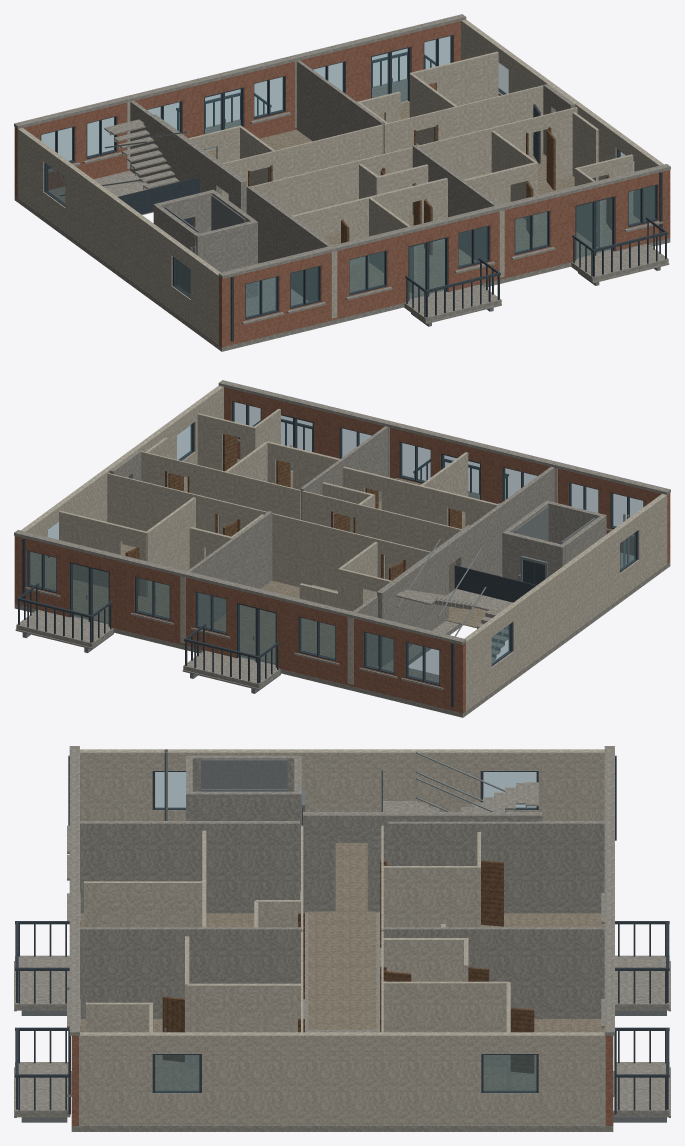
File: PZ_Midrise_TypicalStorey_Repeatable.glb
3 renders of one model, top to bottom at view 1: azimuth 30°, elevation 25°; view 2: azimuth 150°, elevation 25°; view 3: azimuth 270°, elevation 25°, orthographic. The views are drawn at different scales.
Visible parts, largest first — view 1: Story_Repeatable_BackRedBrick_TrueWindowAndDoorApertures, Story_Repeatable_WestConcreteEndWall, Story_Repeatable_FrontRedBrick_TrueWindowAndDoorApertures, Story_Repeatable_AcousticPartyWalls, Story_Repeatable_EastConcreteEndWall, Story_Repeatable_Flex_D_CorridorEntryWall_TRUE_0p90m_OPENING, Story_Repeatable_OneBed_B_CorridorEntryWall_TRUE_0p90m_OPENI, Story_Repeatable_TwoBed_C_CorridorEntryWall_TRUE_0p90m_OPENI, Story_Repeatable_StructuralFloorSlab_20x16_WITH_CORE_VOIDS, Story_Repeatable_Studio_A_CorridorEntryWall_TRUE_0p90m_OPENI, Story_Repeatable_TwoBed_C_TwoBedroomsMainDivider, Story_Repeatable_BackHorizontalConcreteBand (+49 smaller); view 2: Story_Repeatable_FrontRedBrick_TrueWindowAndDoorApertures, Story_Repeatable_WestConcreteEndWall, Story_Repeatable_AcousticPartyWalls, Story_Repeatable_BackRedBrick_TrueWindowAndDoorApertures, Story_Repeatable_Studio_A_CorridorEntryWall_TRUE_0p90m_OPENI, Story_Repeatable_EastConcreteEndWall, Story_Repeatable_OneBed_B_CorridorEntryWall_TRUE_0p90m_OPENI, Story_Repeatable_Flex_D_CorridorEntryWall_TRUE_0p90m_OPENING, Story_Repeatable_TwoBed_C_CorridorEntryWall_TRUE_0p90m_OPENI, Story_Repeatable_TwoBed_C_TwoBedroomsMainDivider, Story_Repeatable_ElevatorAndUStair_FireRatedCorePartition, Story_Repeatable_StructuralFloorSlab_20x16_WITH_CORE_VOIDS (+44 smaller); view 3: Story_Repeatable_AcousticPartyWalls, Story_Repeatable_EastConcreteEndWall, Story_Repeatable_WestConcreteEndWall, Story_Repeatable_CorridorTileSurface, Story_Repeatable_OneBed_B_BedroomDivider_NS, Story_Repeatable_Studio_A_BathroomDivider_NS, Story_Repeatable_ElevatorAndUStair_CoreToHallFireDoorApertur, Story_Repeatable_Flex_D_BedroomSide, Story_Repeatable_TwoBed_C_BedroomSeparation, Story_Repeatable_StructuralFloorSlab_20x16_WITH_CORE_VOIDS, Story_Repeatable_OneBed_B_BathDivider_NS, Story_Repeatable_FrontHorizontalConcreteBand (+32 smaller).
Boxes of the visible parts, bbox=[...] form: Story_Repeatable_BackRedBrick_TrueWindowAndDoorApertures: bbox=[219, 170, 670, 347]; Story_Repeatable_WestConcreteEndWall: bbox=[17, 128, 220, 344]; Story_Repeatable_FrontRedBrick_TrueWindowAndDoorApertures: bbox=[14, 21, 460, 197]; Story_Repeatable_AcousticPartyWalls: bbox=[130, 60, 497, 301]; Story_Repeatable_EastConcreteEndWall: bbox=[461, 19, 663, 220]; Story_Repeatable_Flex_D_CorridorEntryWall_TRUE_0p90m_OPENING: bbox=[417, 107, 577, 179]; Story_Repeatable_OneBed_B_CorridorEntryWall_TRUE_0p90m_OPENI: bbox=[384, 85, 543, 156]; Story_Repeatable_TwoBed_C_CorridorEntryWall_TRUE_0p90m_OPENI: bbox=[251, 147, 412, 235]; Story_Repeatable_StructuralFloorSlab_20x16_WITH_CORE_VOIDS: bbox=[14, 100, 670, 351]; Story_Repeatable_Studio_A_CorridorEntryWall_TRUE_0p90m_OPENI: bbox=[222, 124, 382, 199]; Story_Repeatable_TwoBed_C_TwoBedroomsMainDivider: bbox=[291, 178, 447, 266]; Story_Repeatable_BackHorizontalConcreteBand: bbox=[218, 164, 670, 278]; Story_Repeatable_FrontRedBrick_TrueWindowAndDoorApertures: bbox=[14, 536, 465, 713]; Story_Repeatable_WestConcreteEndWall: bbox=[464, 494, 667, 710]; Story_Repeatable_AcousticPartyWalls: bbox=[187, 426, 554, 666]; Story_Repeatable_BackRedBrick_TrueWindowAndDoorApertures: bbox=[224, 387, 670, 563]; Story_Repeatable_Studio_A_CorridorEntryWall_TRUE_0p90m_OPENI: bbox=[272, 513, 430, 590]; Story_Repeatable_EastConcreteEndWall: bbox=[21, 385, 223, 585]; Story_Repeatable_OneBed_B_CorridorEntryWall_TRUE_0p90m_OPENI: bbox=[107, 473, 267, 556]; Story_Repeatable_Flex_D_CorridorEntryWall_TRUE_0p90m_OPENING: bbox=[139, 450, 300, 534]; Story_Repeatable_TwoBed_C_CorridorEntryWall_TRUE_0p90m_OPENI: bbox=[302, 490, 461, 593]; Story_Repeatable_TwoBed_C_TwoBedroomsMainDivider: bbox=[342, 466, 498, 532]; Story_Repeatable_ElevatorAndUStair_FireRatedCorePartition: bbox=[377, 549, 441, 666]; Story_Repeatable_StructuralFloorSlab_20x16_WITH_CORE_VOIDS: bbox=[14, 469, 670, 717]; Story_Repeatable_AcousticPartyWalls: bbox=[80, 821, 604, 1018]; Story_Repeatable_EastConcreteEndWall: bbox=[79, 1032, 605, 1125]; Story_Repeatable_WestConcreteEndWall: bbox=[80, 749, 604, 825]; Story_Repeatable_CorridorTileSurface: bbox=[308, 911, 376, 1029]; Story_Repeatable_OneBed_B_BedroomDivider_NS: bbox=[383, 981, 508, 1067]; Story_Repeatable_Studio_A_BathroomDivider_NS: bbox=[383, 866, 480, 927]; Story_Repeatable_ElevatorAndUStair_CoreToHallFireDoorApertur: bbox=[303, 812, 387, 912]; Story_Repeatable_Flex_D_BedroomSide: bbox=[187, 983, 300, 1068]; Story_Repeatable_TwoBed_C_BedroomSeparation: bbox=[84, 881, 202, 927]; Story_Repeatable_StructuralFloorSlab_20x16_WITH_CORE_VOIDS: bbox=[71, 891, 613, 1131]; Story_Repeatable_OneBed_B_BathDivider_NS: bbox=[383, 938, 468, 981]; Story_Repeatable_FrontHorizontalConcreteBand: bbox=[604, 746, 614, 1035].
Size of the model in its own units: 20 by 4.56 by 19.41.
8 materials, 8 textured.
